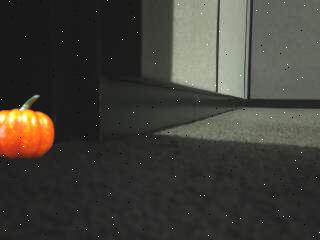Pumpkin: (0, 94, 53, 160)
